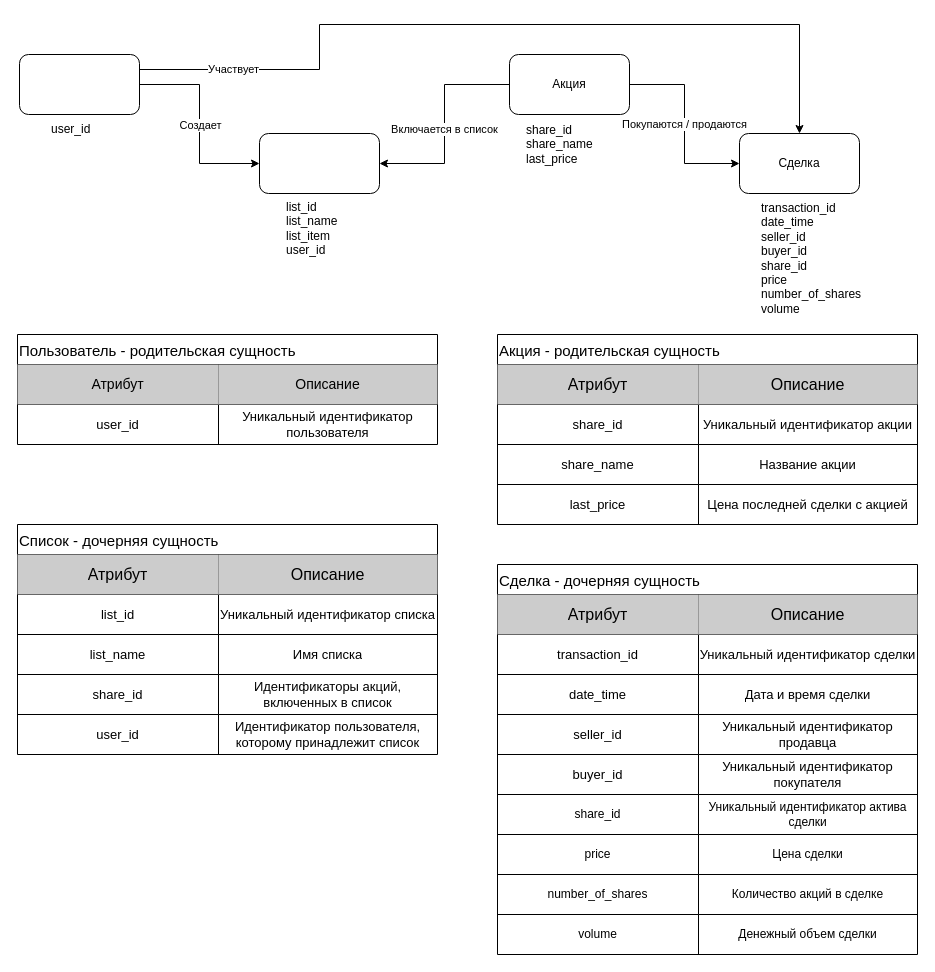
Image size: 935x972. Some labels were removed from this diagram. The centre of each missing label's shape, as x and y in pixels:
Пользователь: the point at 79,84
Список: the point at 319,163
